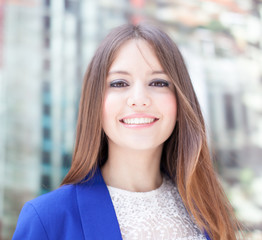teen: (97, 34, 186, 164)
